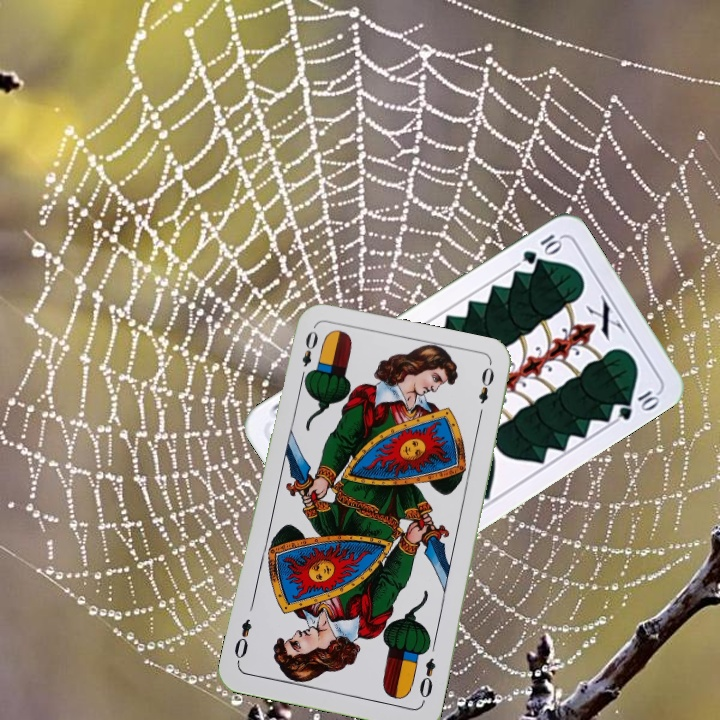EO: (296, 326, 321, 384), (415, 654, 438, 706)
G10: (518, 230, 565, 267)
